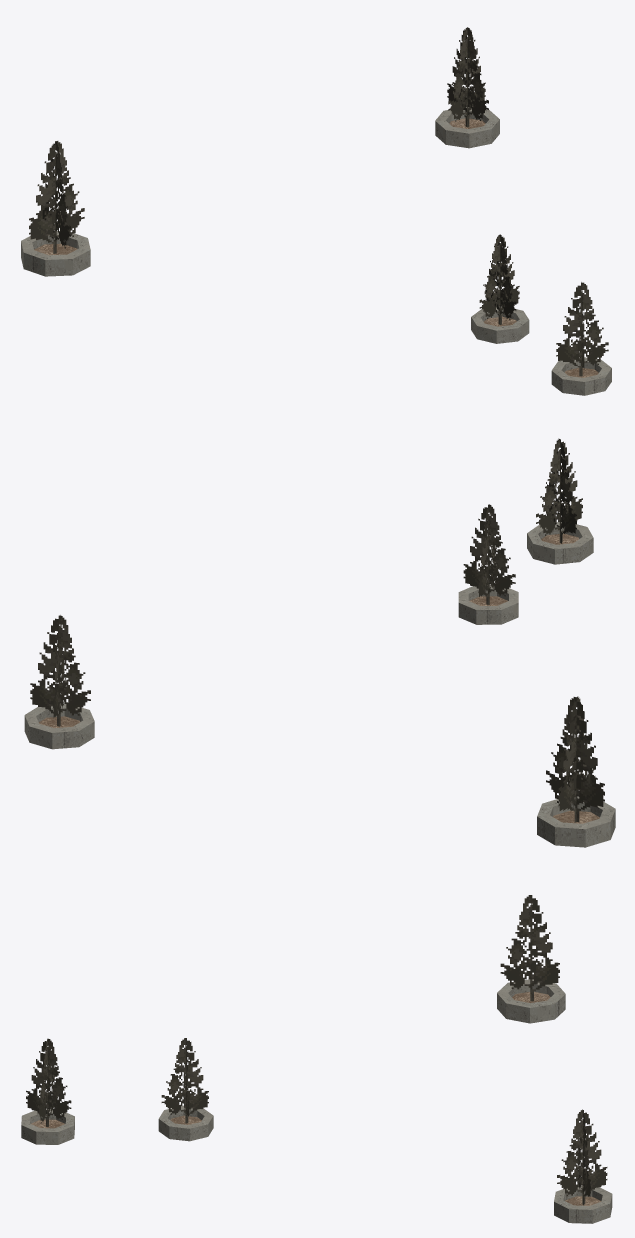
Rendered from procgen-procpain-tree-park-pine-large-x0zm2.obj.
3 renders of one model, top to bottom at view 1: azimuth 30°, elevation 25°; view 2: azimuth 150°, elevation 25°; view 3: azimuth 270°, elevation 25°, orthographic. The views are drawn at different scales.
Size of the model in its own units: 50.02 by 11.19 by 54.03.
